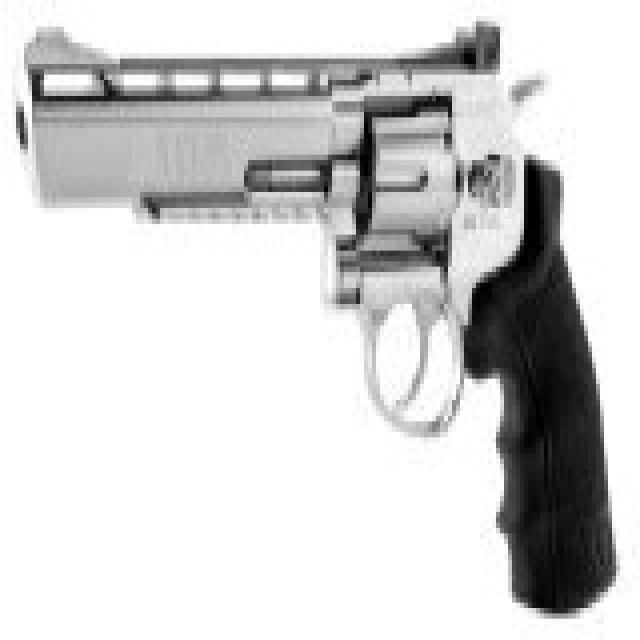Gun: (13, 17, 616, 615)
